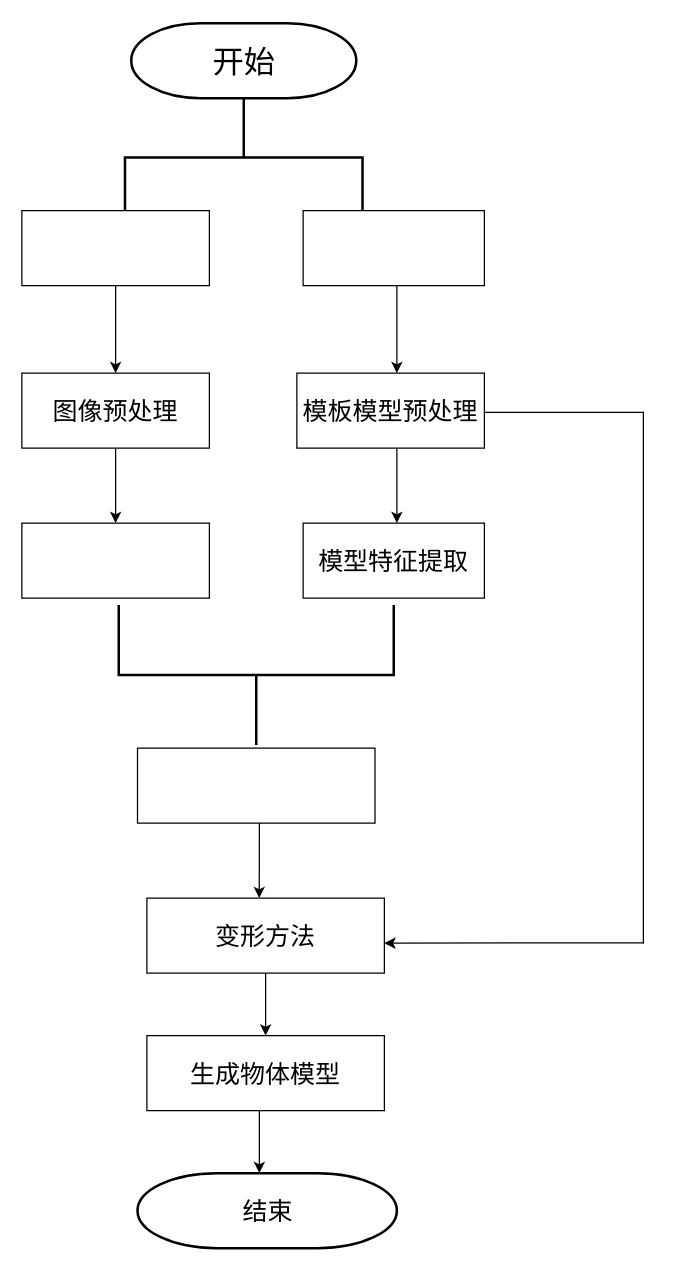
This 676x1270 diagram has some shape labels left out. The box of each missing label's shape, as (x1, y1, x2, y2) in pixels:
图像特征提取: (21, 522, 209, 598)
模板模型选取: (302, 209, 484, 286)
生成变形矩阵: (136, 747, 375, 823)
输入图像: (21, 209, 209, 286)
